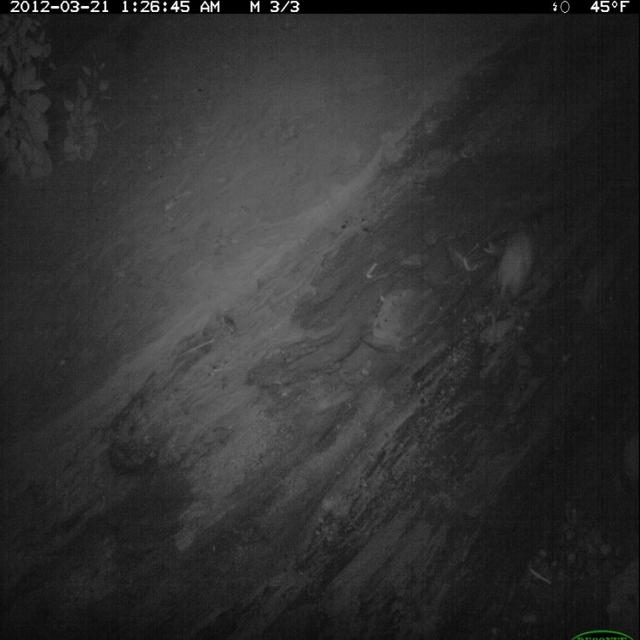opossum: (490, 218, 541, 329)
